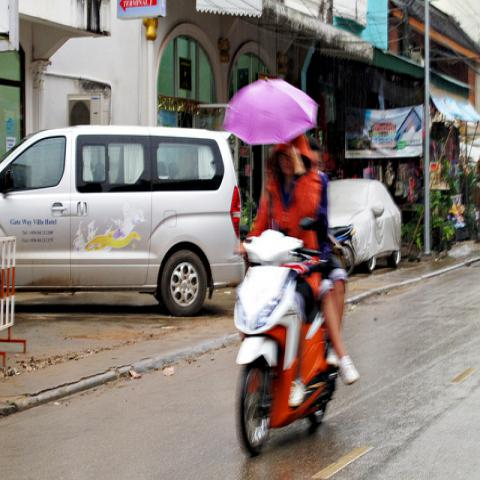car: (0, 124, 245, 321), (327, 179, 401, 270)
motorcycle: (233, 230, 341, 456)
